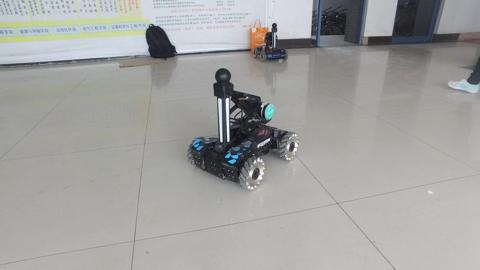bag: (145, 21, 179, 62), (245, 15, 270, 49)
chariot: (186, 66, 300, 191), (252, 21, 289, 62)
